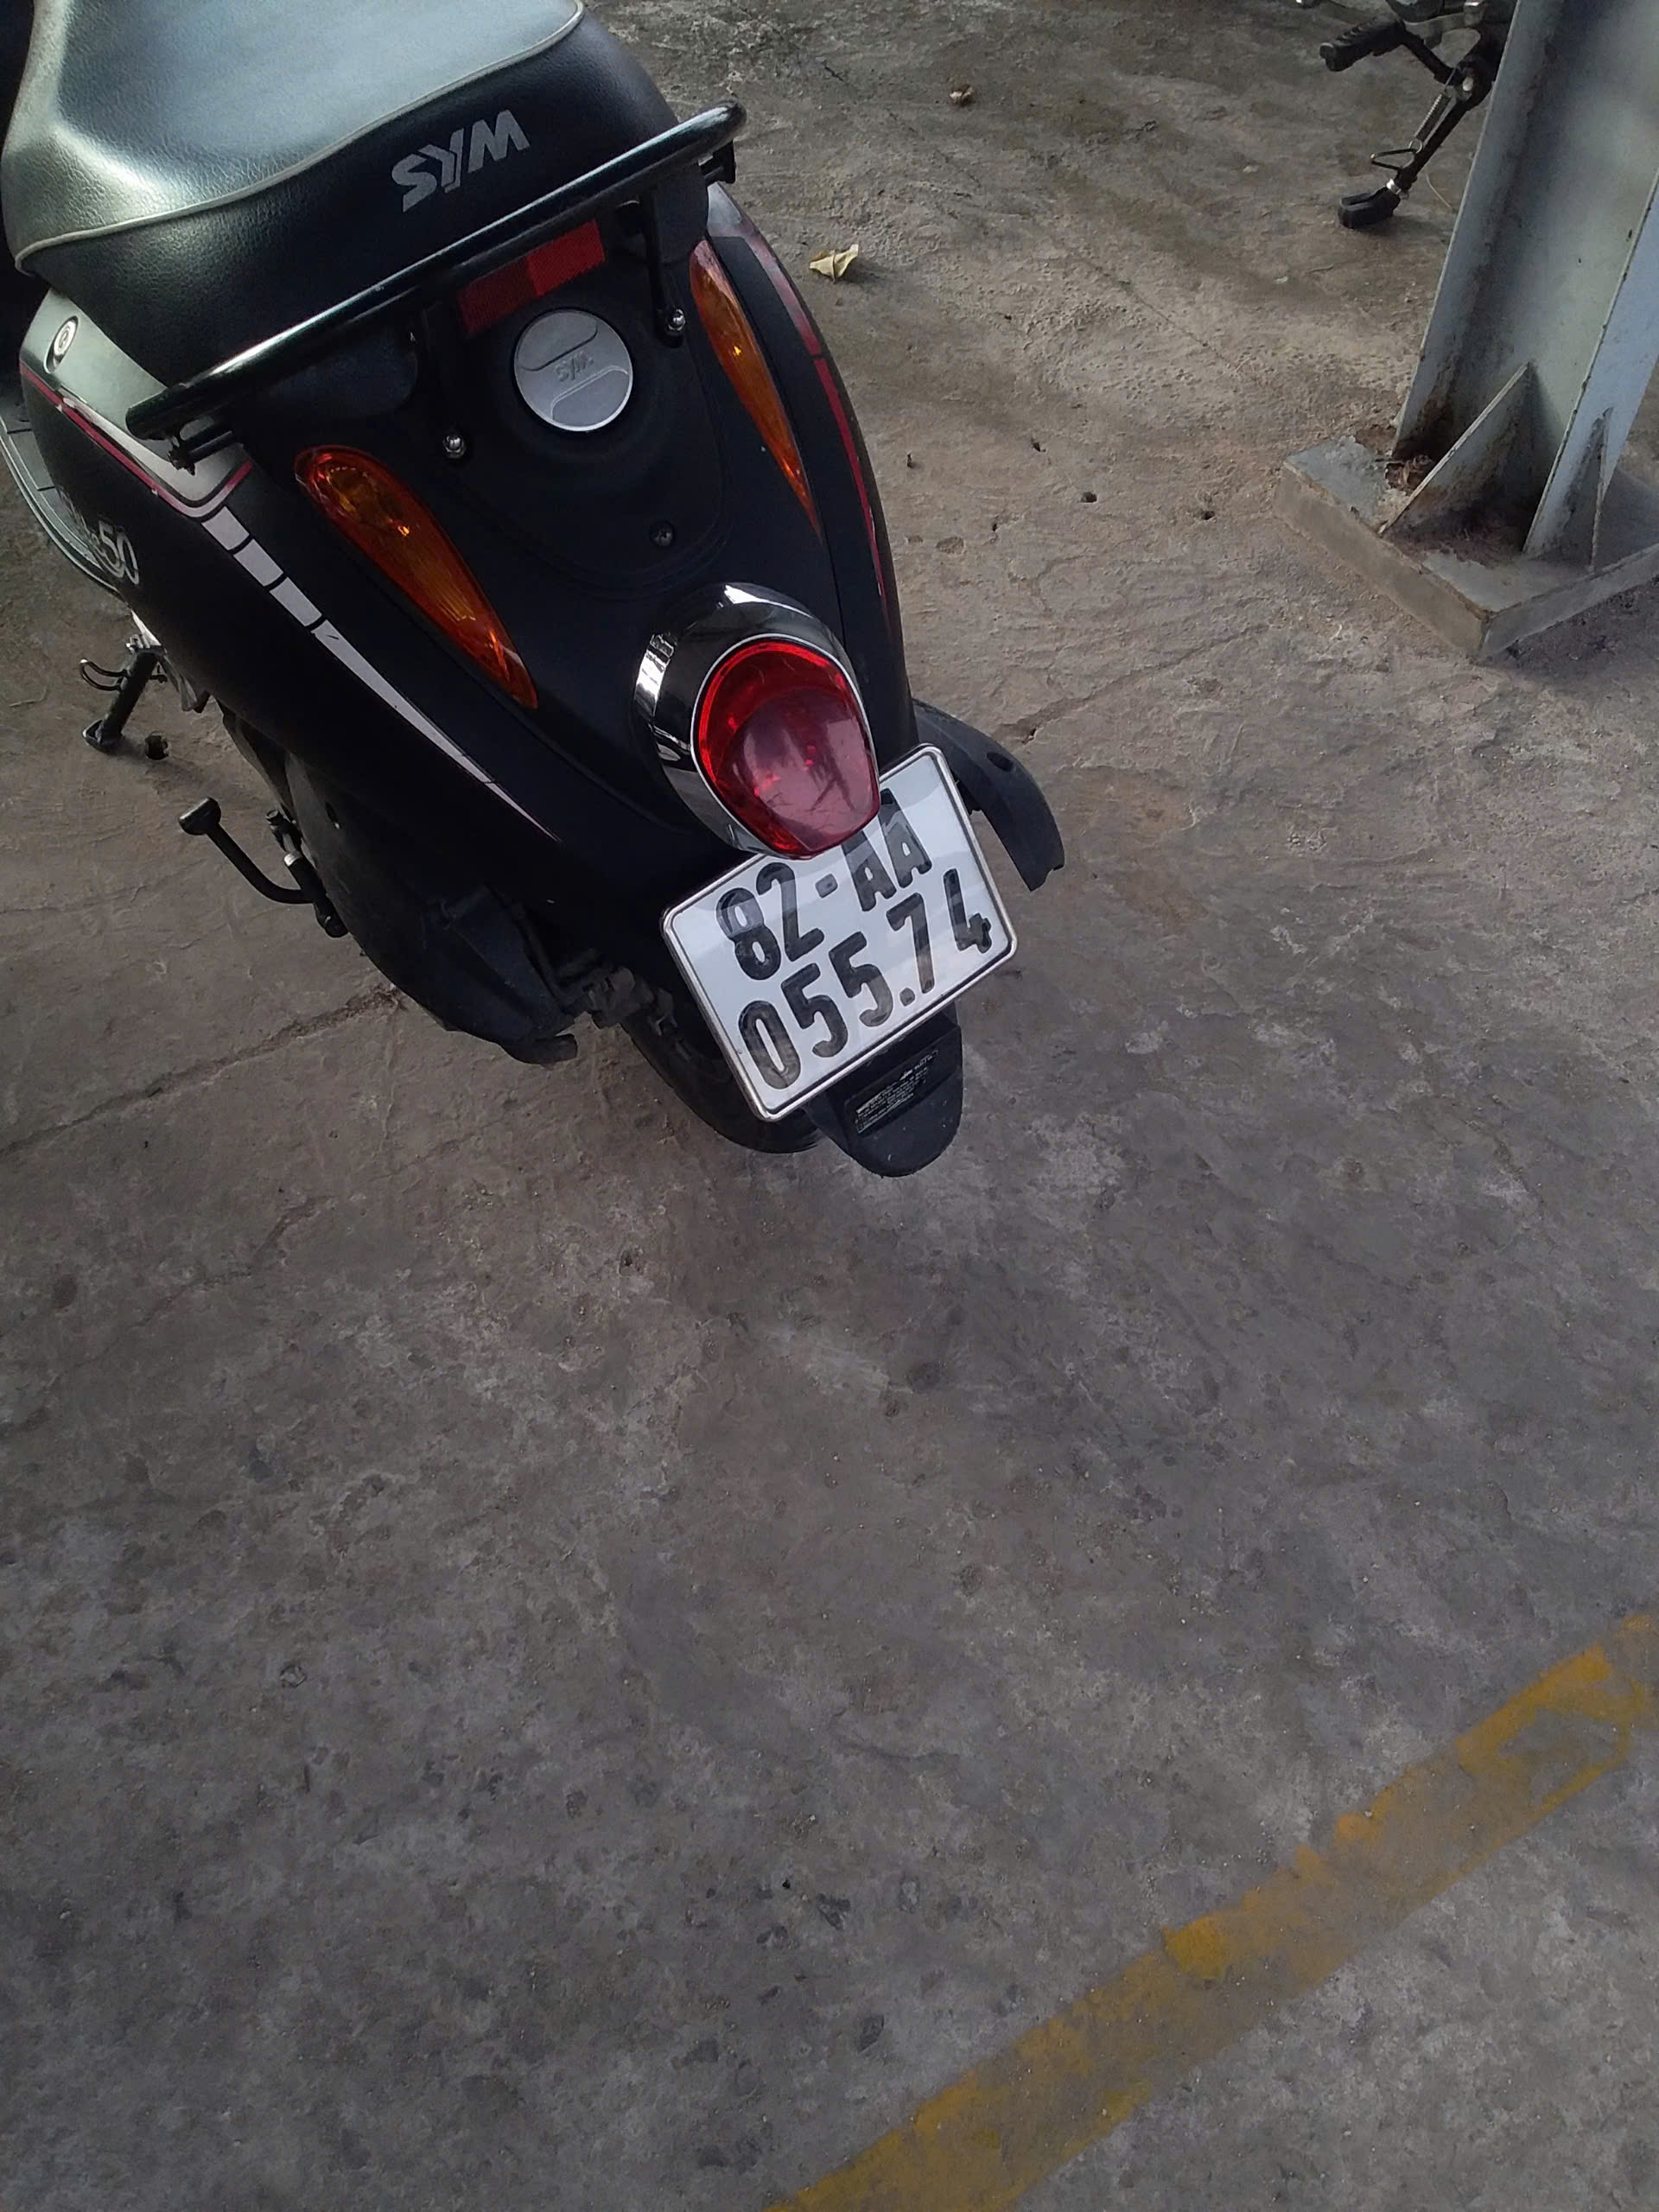bien_so: (669, 748, 1012, 1119)
